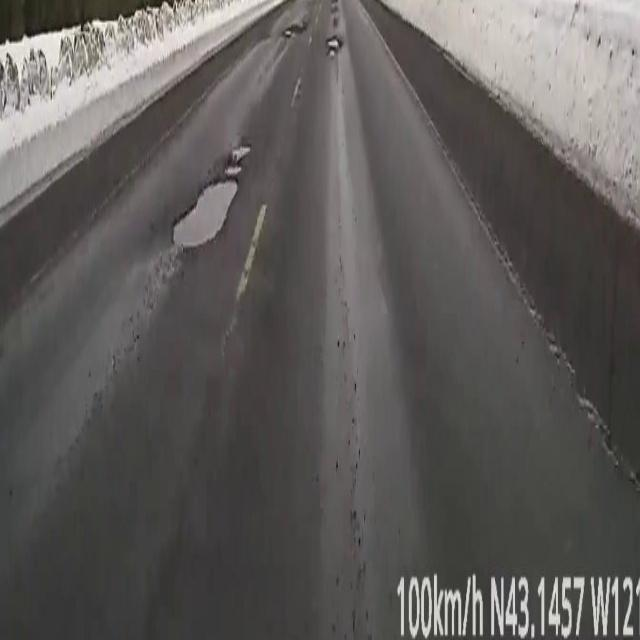pothole: (174, 142, 253, 246), (284, 18, 306, 38), (328, 34, 340, 58)
